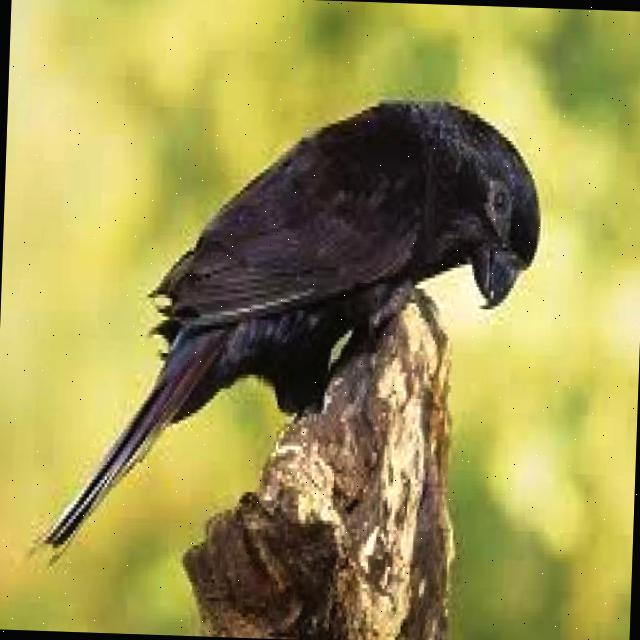Nuri Hitam: (11, 50, 557, 606)
